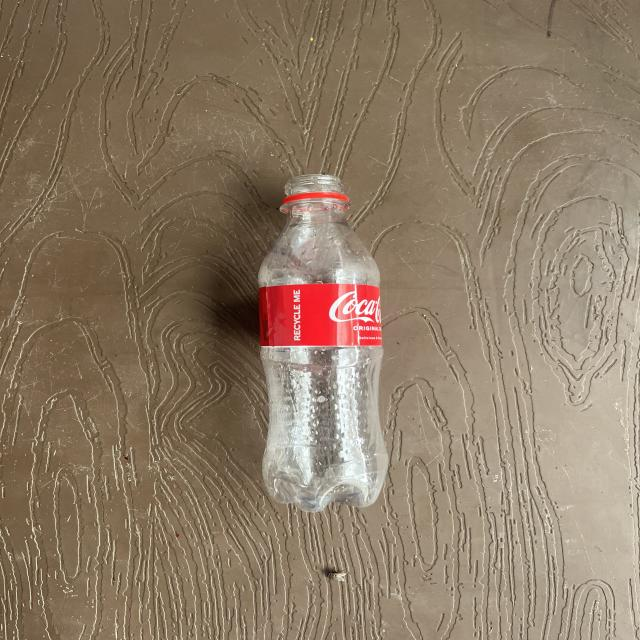REJECT: (243, 186, 394, 510)
